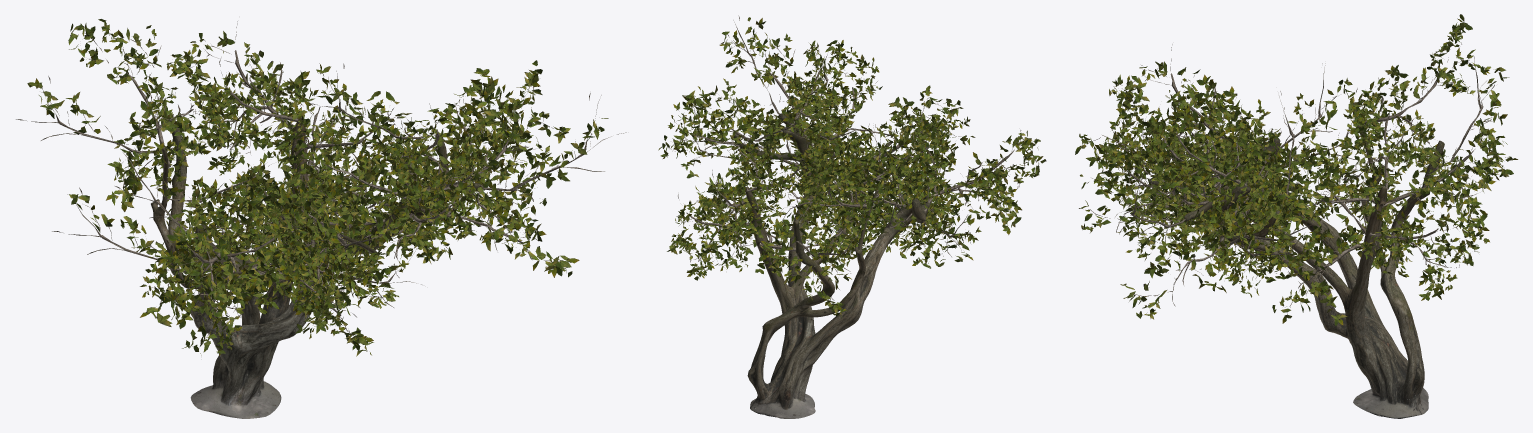
File: island_tree_02.glb
The picture shows the model from 3 angles, left to right: view 1: azimuth 30°, elevation 25°; view 2: azimuth 150°, elevation 25°; view 3: azimuth 270°, elevation 25°; orthographic projection. The views are drawn at different scales.
Parts seen in each view (by area): view 1: island_tree_02_LOD0.002, island_tree_02_LOD0, island_tree_02_LOD0.001; view 2: island_tree_02_LOD0.002, island_tree_02_LOD0.001, island_tree_02_LOD0; view 3: island_tree_02_LOD0.002, island_tree_02_LOD0.001, island_tree_02_LOD0.
Boxes of the visible parts, bbox=[...] form: island_tree_02_LOD0.002: bbox=[27, 19, 608, 356]; island_tree_02_LOD0: bbox=[16, 21, 626, 348]; island_tree_02_LOD0.001: bbox=[151, 116, 483, 418]; island_tree_02_LOD0.002: bbox=[658, 17, 1046, 318]; island_tree_02_LOD0.001: bbox=[733, 113, 933, 418]; island_tree_02_LOD0: bbox=[667, 15, 1036, 304]; island_tree_02_LOD0.002: bbox=[1075, 14, 1517, 326]; island_tree_02_LOD0.001: bbox=[1149, 103, 1444, 418]; island_tree_02_LOD0: bbox=[1081, 31, 1503, 316].
Size of the model in its own units: 4.2 by 3.38 by 4.08.
3 materials, 3 textured.
